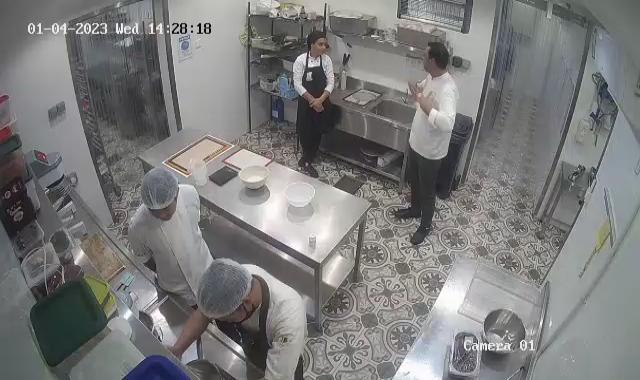hairnet: (196, 259, 254, 318), (138, 165, 180, 216)
no_hairnet: (429, 40, 453, 69), (307, 29, 328, 52)
